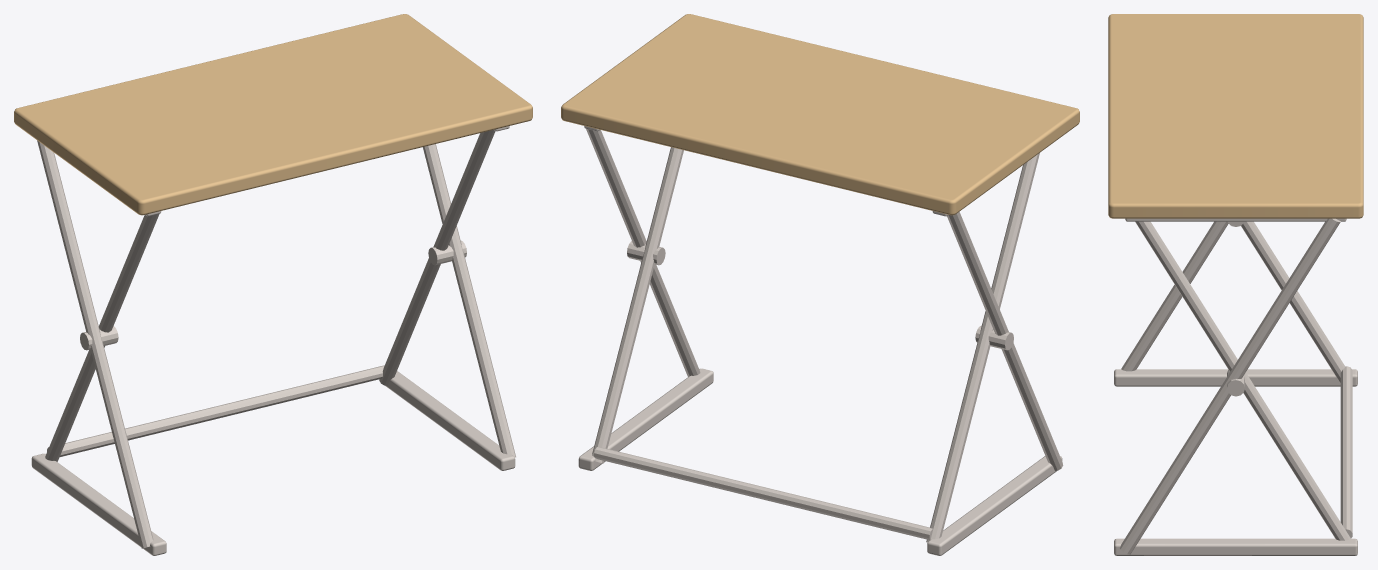
The model's file is desk_fold.glb.
The picture shows the model from 3 angles, left to right: view 1: azimuth 30°, elevation 25°; view 2: azimuth 150°, elevation 25°; view 3: azimuth 270°, elevation 25°; orthographic projection.
Visible parts, largest first — view 1: desk_fold; view 2: desk_fold; view 3: desk_fold.
Part boxes in pixels (<box>): desk_fold: <box>14,14,532,555</box>; desk_fold: <box>561,14,1079,555</box>; desk_fold: <box>1108,14,1363,555</box>.
Bounding box in the file's own units: 0.8 × 0.7 × 0.45.
